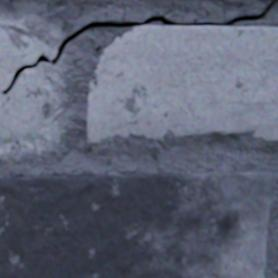brick: (0, 170, 271, 277), (87, 25, 277, 142)
broken_brick: (0, 30, 46, 141)
crack: (2, 0, 275, 93)
